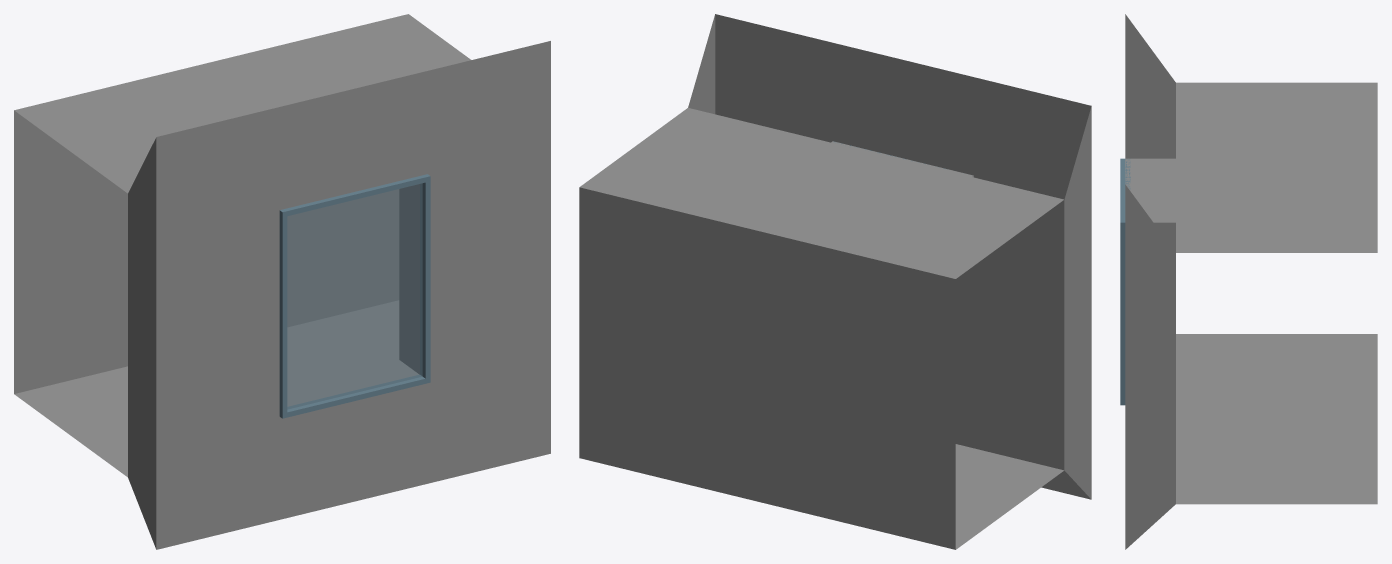
File: officeBuilding01_windowSmall01.FBX
The picture shows the model from 3 angles, left to right: view 1: azimuth 30°, elevation 25°; view 2: azimuth 150°, elevation 25°; view 3: azimuth 270°, elevation 25°; orthographic projection. The views are drawn at different scales.
Parts seen in each view (by area): view 1: officeBuilding01_windowSmall01; view 2: officeBuilding01_windowSmall01; view 3: officeBuilding01_windowSmall01.
Boxes of the visible parts, <box> form: officeBuilding01_windowSmall01: <box>14,14,550,549</box>; officeBuilding01_windowSmall01: <box>579,14,1091,549</box>; officeBuilding01_windowSmall01: <box>1120,14,1377,549</box>.
Bounding box in the file's own units: 400 × 400 × 255.
